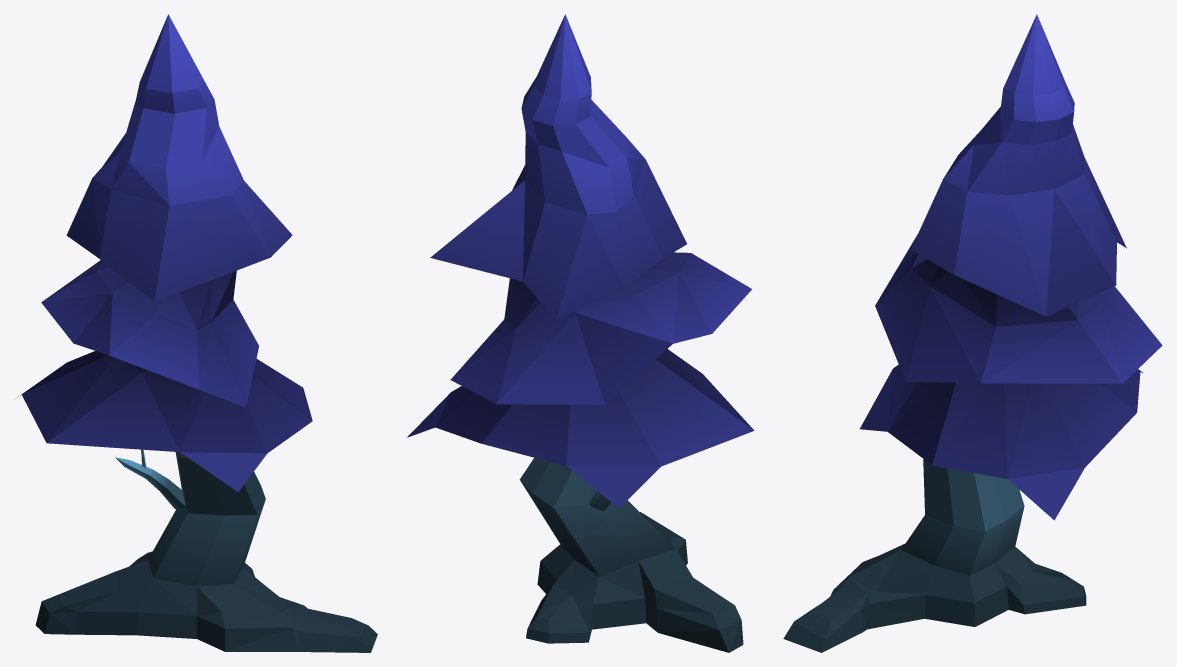
Rendered from arbol.fbx.
3 renders of one model, left to right at view 1: azimuth 30°, elevation 25°; view 2: azimuth 150°, elevation 25°; view 3: azimuth 270°, elevation 25°, orthographic. The views are drawn at different scales.
Parts seen in each view (by area): view 1: árbol_puente; view 2: árbol_puente; view 3: árbol_puente.
Part boxes in pixels (x1,y1,x2,y2): árbol_puente: (17, 14, 377, 652); árbol_puente: (407, 14, 754, 652); árbol_puente: (783, 14, 1162, 652).
Bounding box in the file's own units: 211 × 398 × 233.
